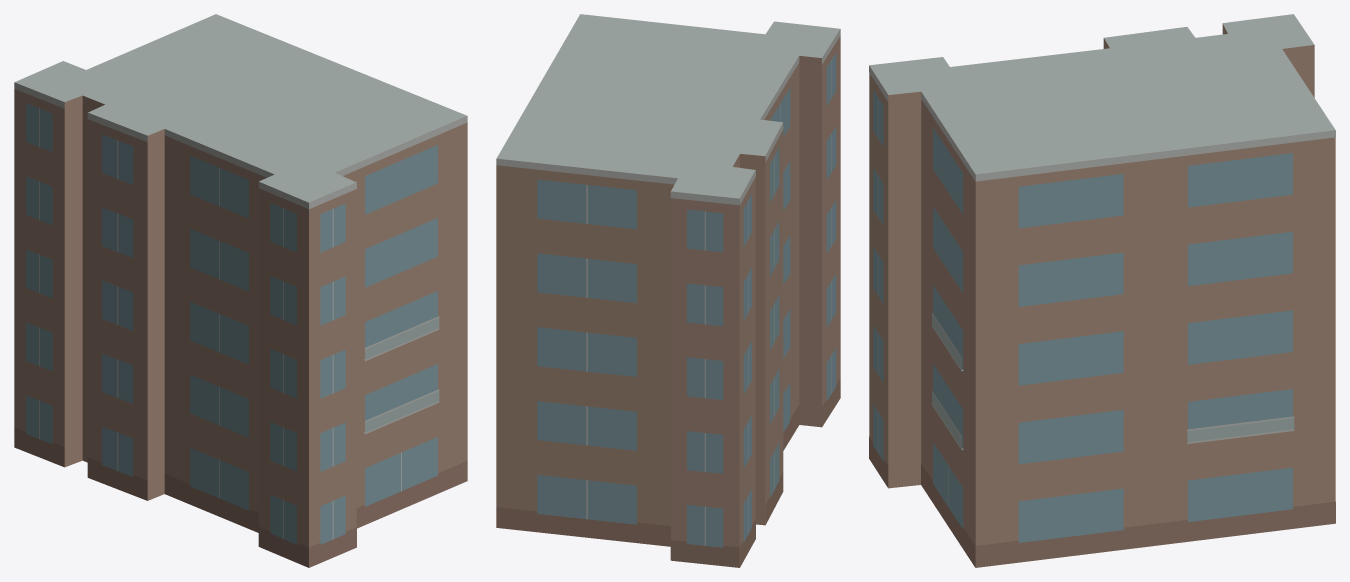
Rendered from survey-upis-32755750.glb.
3 renders of one model, left to right at view 1: azimuth 30°, elevation 25°; view 2: azimuth 150°, elevation 25°; view 3: azimuth 270°, elevation 25°, orthographic. The views are drawn at different scales.
Parts seen in each view (by area): view 1: survey-upis-32755750.tmp; view 2: survey-upis-32755750.tmp; view 3: survey-upis-32755750.tmp.
Part boxes in pixels (bbox=[...]): survey-upis-32755750.tmp: bbox=[14, 14, 467, 567]; survey-upis-32755750.tmp: bbox=[496, 14, 840, 567]; survey-upis-32755750.tmp: bbox=[869, 14, 1335, 567].
Size of the model in its own units: 11.92 by 13.6 by 14.64.
